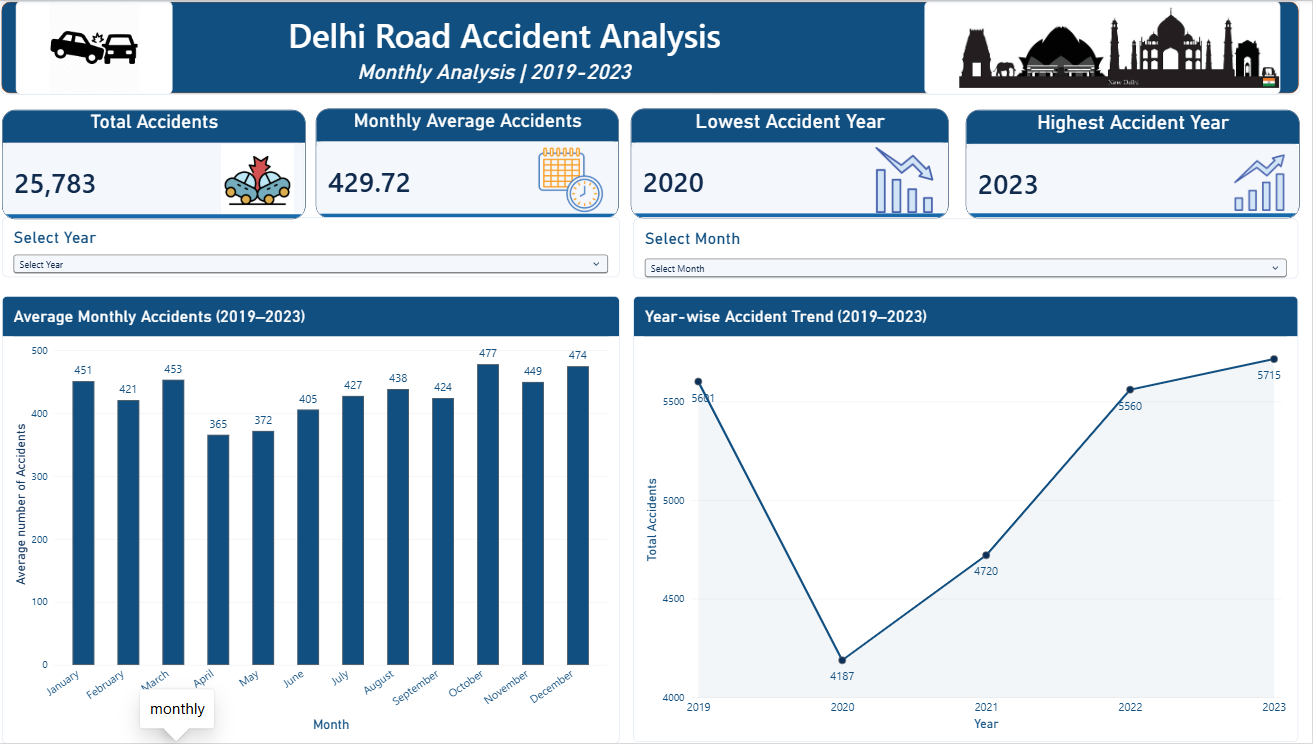

This screenshot's page, from the dashboard's own definition file:
{"tool":"powerbi","page":{"name":"monthly","canvas":[1920,1080],"ordinal":0},"visuals":[{"type":"cardVisual","title":"Monthly Average Accidents","fields":{"Data":["DimYear.Average Monthly Accidents"]},"box":[470.5,156.1,441,160.4],"z":1000},{"type":"cardVisual","title":"Highest Accident Year","fields":{"Data":["DimYear.Highest Accident Year Display"]},"box":[1415.7,158.2,485.3,158.2],"z":2000},{"type":"cardVisual","title":"Lowest Accident Year","fields":{"Data":["DimYear.Lowest Accident Year Display"]},"box":[928.4,156.1,462.1,160.4],"z":3000},{"type":"lineChart","title":"\tYear-wise Accident Trend (2019–2023)","fields":{"Category":["DimYear.Year"],"Y":["DimYear.Total Accidents"]},"box":[932.7,429.1,967.3,649.1],"z":4000},{"type":"clusteredColumnChart","title":"\tAverage Monthly Accidents (2019–2023)","fields":{"Category":["Monthly_Accidents.Month"],"Y":["DimYear.Average Monthly Accidents"]},"box":[14.5,429.1,898.2,650.9],"z":5000},{"type":"listSlicer","title":"Select  Year","fields":{"Values":["DimYear.Year"]},"box":[14.5,314.5,898.2,87.3],"z":6000},{"type":"listSlicer","title":"Select Month","fields":{"Values":["Monthly_Accidents.Month"]},"box":[932.7,316.4,967.3,87.3],"z":7000},{"type":"shape","box":[12.7,0,1889.3,135.7],"z":8000},{"type":"textbox","box":[376.4,16.3,738.3,68.8],"z":8001},{"type":"textbox","title":"Monthly Analysis | 2019-2023","box":[401.7,85.1,656.9,50.7],"z":8002},{"type":"image","box":[34.4,0,228,135.7],"z":8003},{"type":"image","box":[1357.2,0,517.6,135.7],"z":8004},{"type":"cardVisual","title":"Total Accidents","fields":{"Data":["DimYear.Total Accidents Display1"]},"box":[14.5,157.4,441.6,159.3],"z":8005}]}

Visuals, with their boxes in screenshot pixels (x1, y1, x2, y2), scaled from the page's 1920x1080 canvas onto the 1313x744 screenshot:
"Monthly Average Accidents" cardVisual: (322, 108, 623, 218)
"Highest Accident Year" cardVisual: (968, 109, 1300, 218)
"Lowest Accident Year" cardVisual: (635, 108, 951, 218)
"	Year-wise Accident Trend (2019–2023)" lineChart: (638, 296, 1299, 743)
"	Average Monthly Accidents (2019–2023)" clusteredColumnChart: (10, 296, 624, 743)
"Select  Year" listSlicer: (10, 217, 624, 277)
"Select Month" listSlicer: (638, 218, 1299, 278)
shape: (9, 0, 1301, 93)
textbox: (257, 11, 762, 59)
"Monthly Analysis | 2019-2023" textbox: (275, 59, 724, 94)
image: (24, 0, 179, 93)
image: (928, 0, 1282, 93)
"Total Accidents" cardVisual: (10, 108, 312, 218)
